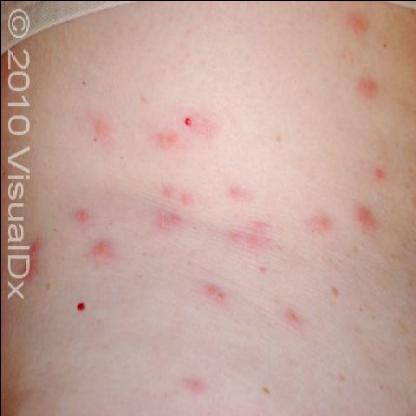Bed Bug: (217, 219, 287, 264), (148, 112, 218, 154), (152, 183, 196, 235), (20, 237, 42, 290), (89, 110, 112, 152), (348, 204, 380, 233), (176, 374, 210, 400), (89, 236, 116, 268), (201, 280, 229, 310), (356, 76, 380, 106), (304, 214, 334, 237), (223, 185, 254, 207), (346, 10, 373, 35), (280, 306, 304, 334), (73, 209, 92, 228), (73, 300, 91, 318), (372, 164, 385, 185)
